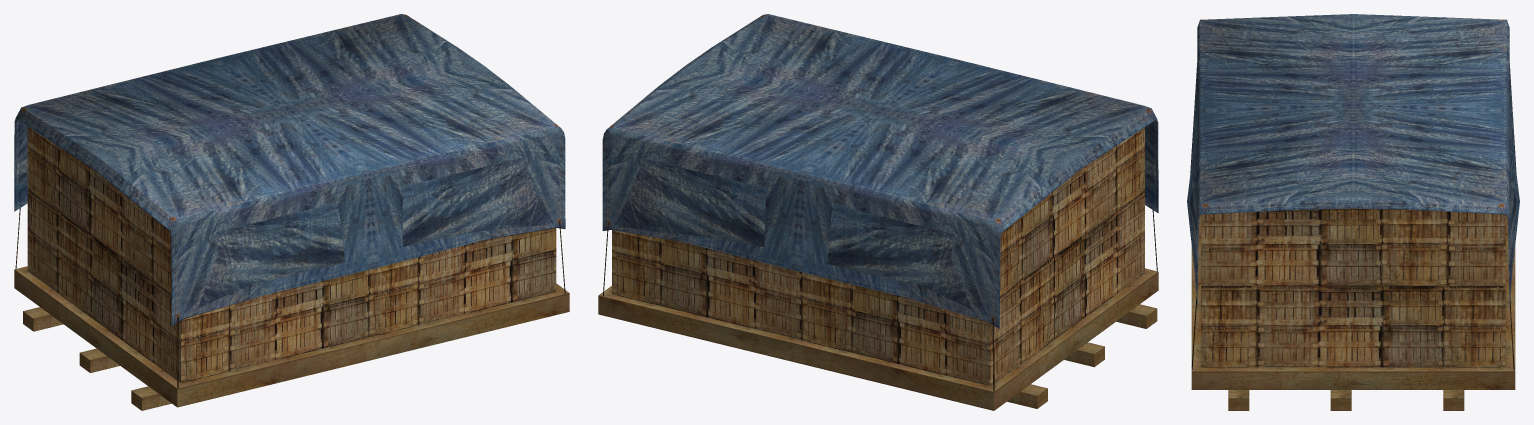
The model's file is crates.fbx.
3 renders of one model, left to right at view 1: azimuth 30°, elevation 25°; view 2: azimuth 150°, elevation 25°; view 3: azimuth 270°, elevation 25°, orthographic.
Visible parts, largest first — view 1: crates; view 2: crates; view 3: crates.
Part boxes in pixels (x1,y1,x2,y2): crates: (14, 14, 569, 410); crates: (598, 14, 1158, 410); crates: (1187, 14, 1519, 410).
Bounding box in the file's own units: 589 × 268 × 401.
